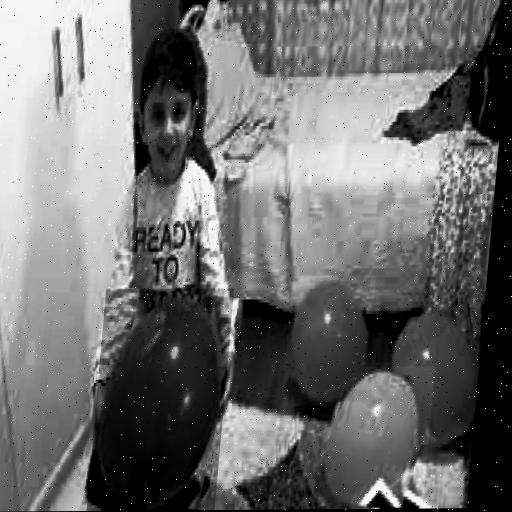balloon: (87, 288, 234, 511), (316, 366, 434, 509), (379, 307, 484, 446), (281, 275, 376, 405)
